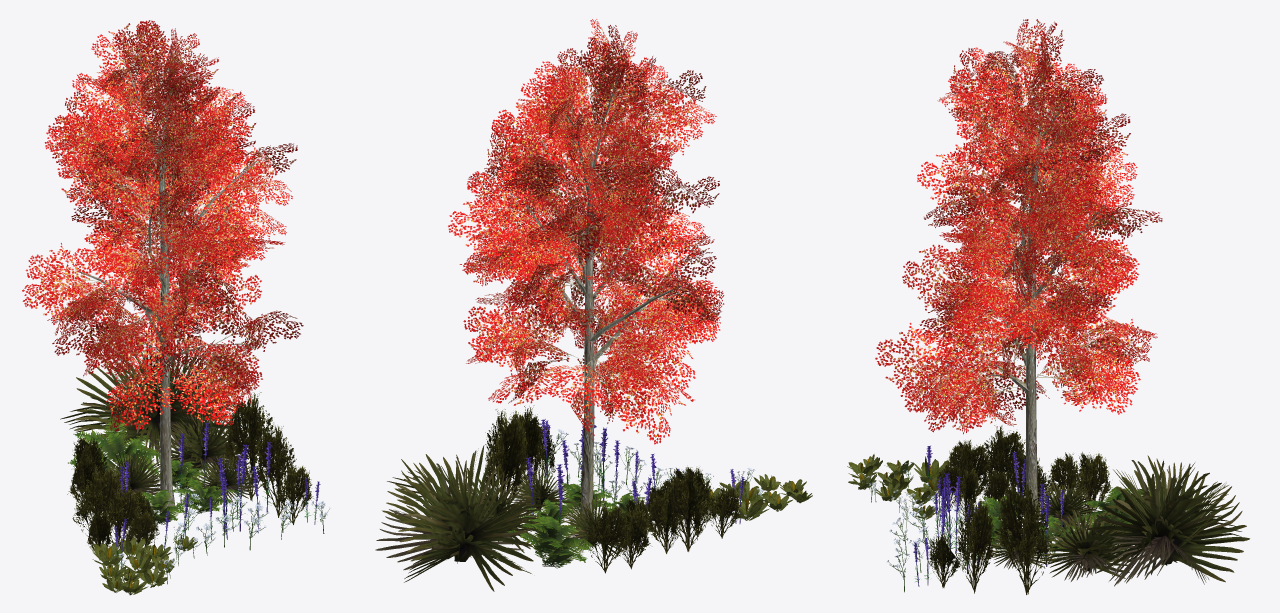
File: 0_home1_plants_all.fbx
3 renders of one model, left to right at view 1: azimuth 30°, elevation 25°; view 2: azimuth 150°, elevation 25°; view 3: azimuth 270°, elevation 25°, orthographic. The views are drawn at different scales.
Parts seen in each view (by area): view 1: 0_home1_plants_all.001; view 2: 0_home1_plants_all.001; view 3: 0_home1_plants_all.001.
Boxes of the visible parts, <box> form: 0_home1_plants_all.001: <box>22,20,331,595</box>; 0_home1_plants_all.001: <box>375,19,812,591</box>; 0_home1_plants_all.001: <box>847,19,1249,594</box>.
Bounding box in the file's own units: 282 × 479 × 346.
